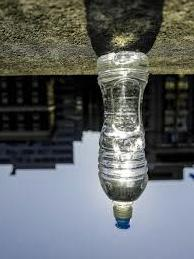Plastic: (96, 52, 146, 231)
